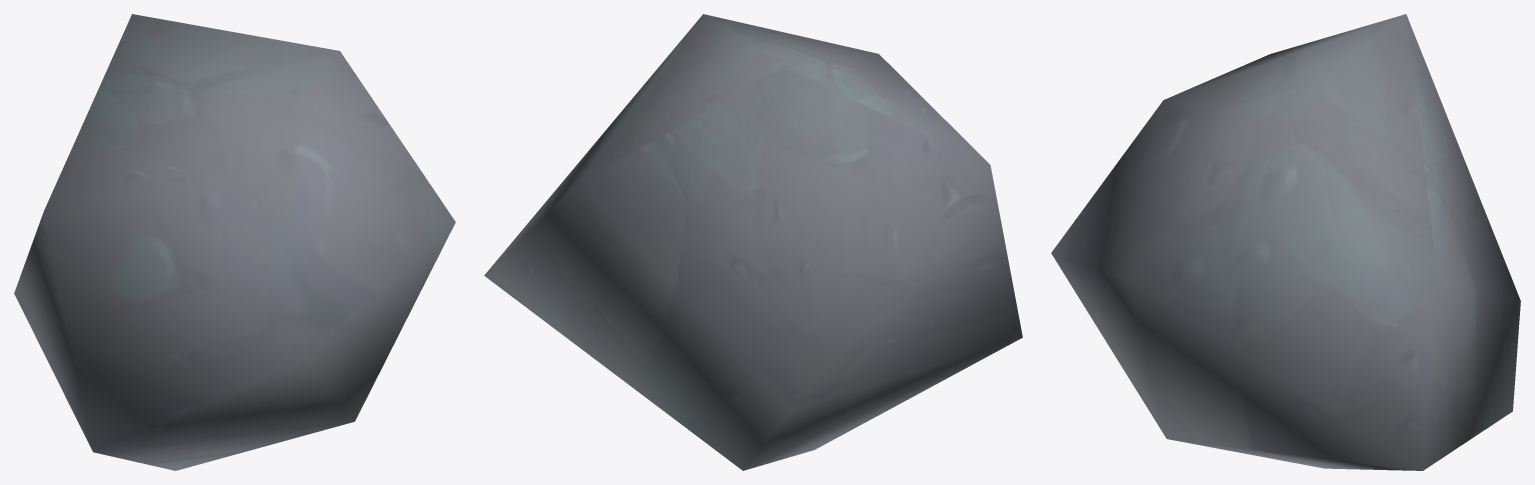
Rendered from Boulder_S.fbx.
The picture shows the model from 3 angles, left to right: view 1: azimuth 30°, elevation 25°; view 2: azimuth 150°, elevation 25°; view 3: azimuth 270°, elevation 25°; orthographic projection. The views are drawn at different scales.
Visible parts, largest first — view 1: Boulder_S; view 2: Boulder_S; view 3: Boulder_S.
Boxes of the visible parts, box(x1,y1,x2,y2) form: Boulder_S: box(14, 14, 455, 470); Boulder_S: box(484, 14, 1022, 470); Boulder_S: box(1051, 14, 1520, 470).
Bounding box in the file's own units: 472 × 425 × 400.
